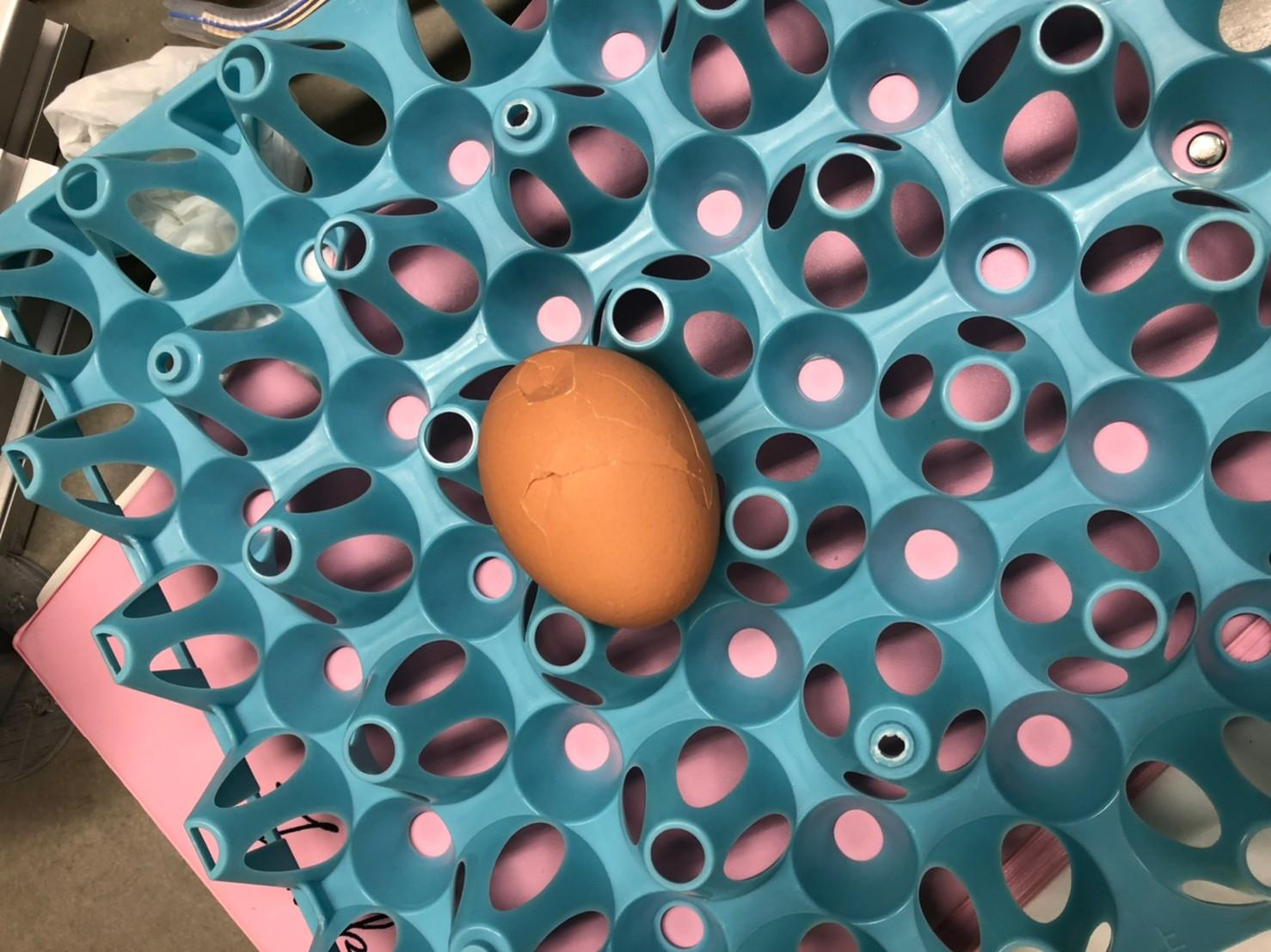egg: (472, 339, 730, 632)
